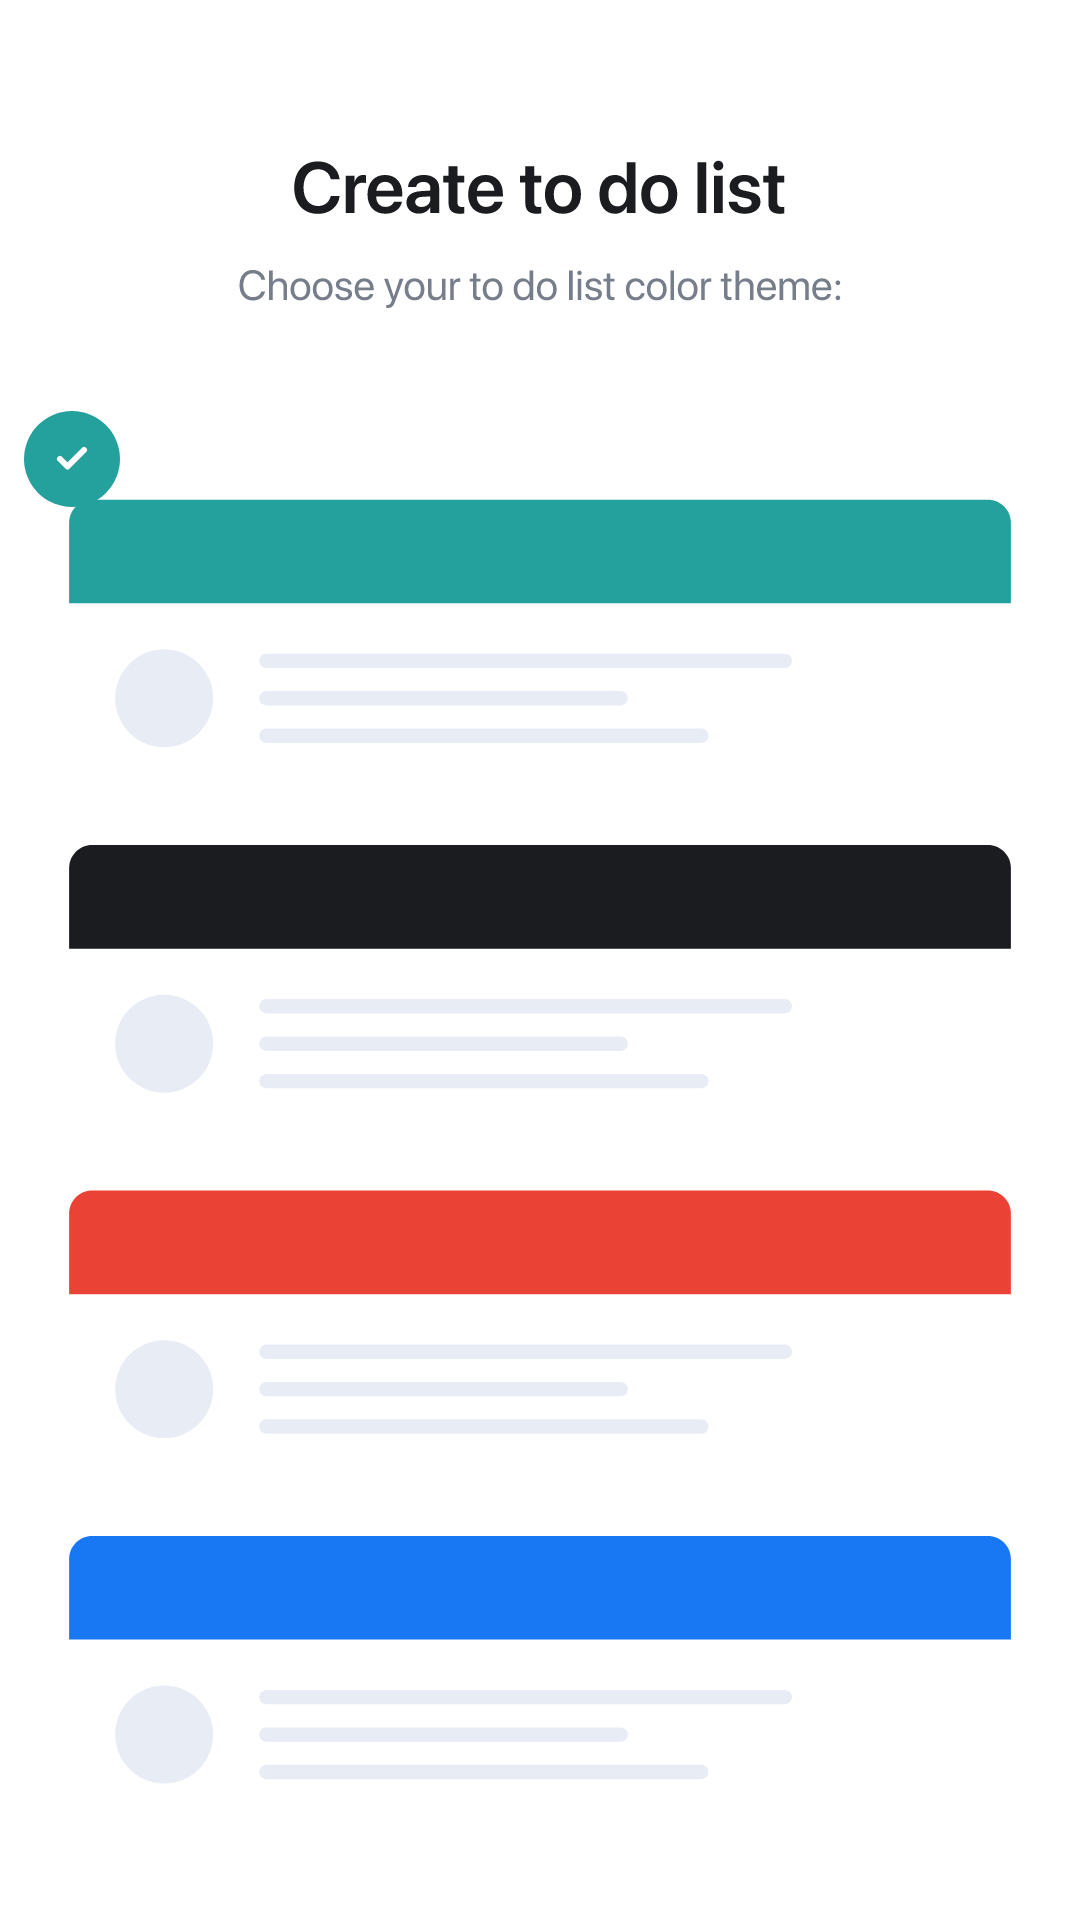

Locate icon controls on the screen. Image size 1080*1920, boxes as (x1, y1, x2, y2).
badge: (24, 411, 120, 507)
